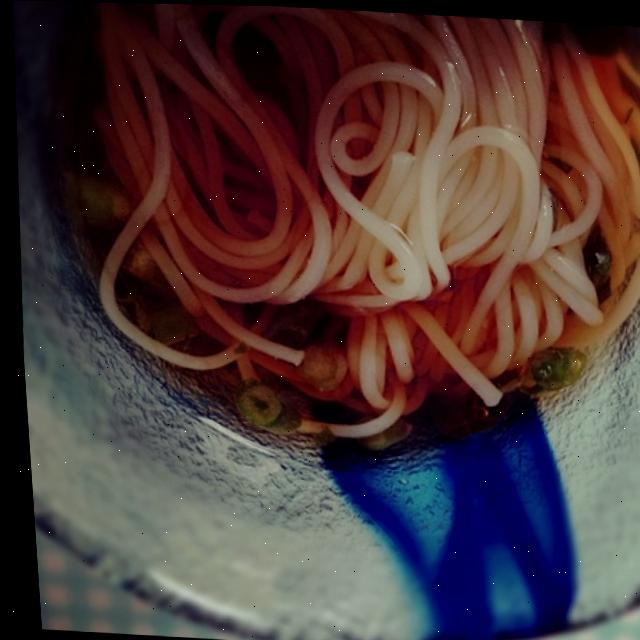面条主食: (9, 0, 640, 628)
